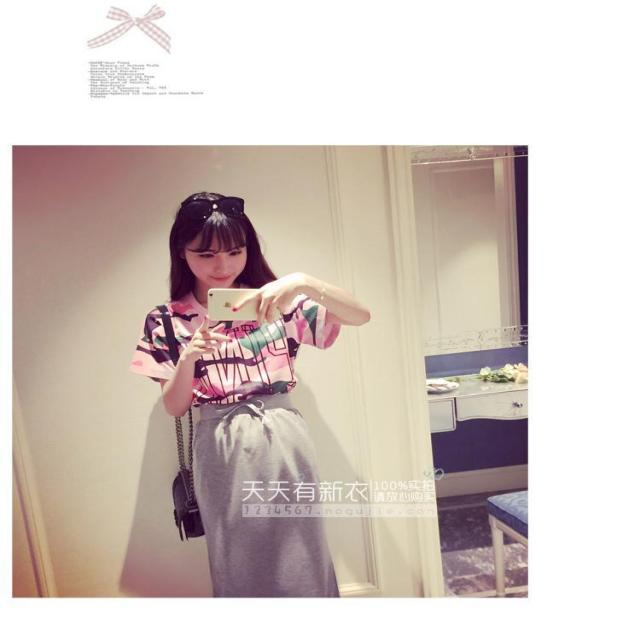short sleeve top: (129, 282, 331, 407)
skirt: (199, 393, 340, 600)
